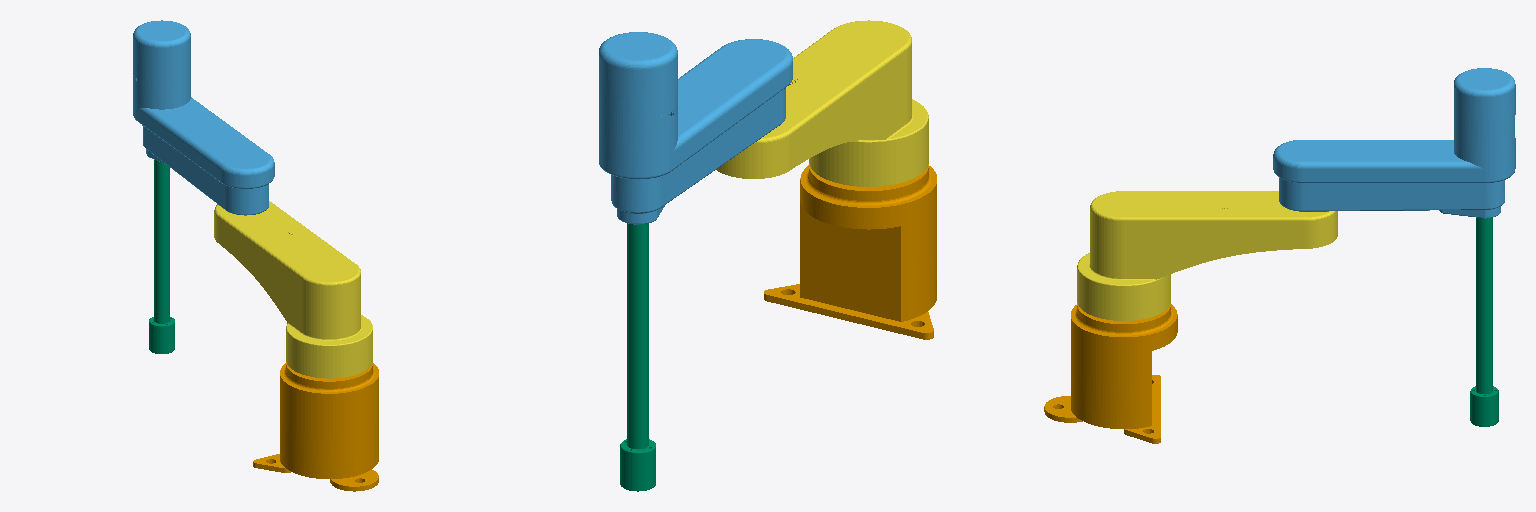
The robot description file, URDF, robot "robot_assembly":
<?xml version="1.0" ?>
<robot name="robot_assembly">

<link name="base_link">
  <inertial>
    <origin xyz="-1.888762183439215e-15 -0.010495627041338022 0.09733404643227067" rpy="0 0 0"/>
    <mass value="5.007906755743693"/>
    <inertia ixx="0.027282" iyy="0.030304" izz="0.02086" ixy="0.0" iyz="-0.001324" ixz="-0.0"/>
  </inertial>
  <visual>
    <origin xyz="0 0 0" rpy="0 0 0"/>
    <geometry>
      <mesh filename="robot_assembly_description\meshes\base_link.stl" scale="0.001 0.001 0.001"/>
    </geometry>
    <material name="silver"/>
  </visual>
  <collision>
    <origin xyz="0 0 0" rpy="0 0 0"/>
    <geometry>
      <mesh filename="robot_assembly_description\meshes\base_link.stl" scale="0.001 0.001 0.001"/>
    </geometry>
  </collision>
</link>

<link name="arm2_1">
  <inertial>
    <origin xyz="-9.14622896552462e-07 0.19697821278629074 0.08613854339324689" rpy="0 0 0"/>
    <mass value="4.952981163199924"/>
    <inertia ixx="0.093532" iyy="0.022331" izz="0.078607" ixy="-0.0" iyz="-0.018464" ixz="-0.0"/>
  </inertial>
  <visual>
    <origin xyz="-0.0 -0.32 -0.3985" rpy="0 0 0"/>
    <geometry>
      <mesh filename="robot_assembly_description\meshes\arm2_1.stl" scale="0.001 0.001 0.001"/>
    </geometry>
    <material name="silver"/>
  </visual>
  <collision>
    <origin xyz="-0.0 -0.32 -0.3985" rpy="0 0 0"/>
    <geometry>
      <mesh filename="robot_assembly_description\meshes\arm2_1.stl" scale="0.001 0.001 0.001"/>
    </geometry>
  </collision>
</link>

<link name="shaft_1">
  <inertial>
    <origin xyz="3.204271979681934e-16 2.55351295663786e-15 -0.2276256112953061" rpy="0 0 0"/>
    <mass value="0.29882619323390436"/>
    <inertia ixx="0.004714" iyy="0.004714" izz="5.9e-05" ixy="-0.0" iyz="0.0" ixz="0.0"/>
  </inertial>
  <visual>
    <origin xyz="-0.0 -0.64 -0.3815" rpy="0 0 0"/>
    <geometry>
      <mesh filename="robot_assembly_description\meshes\shaft_1.stl" scale="0.001 0.001 0.001"/>
    </geometry>
    <material name="silver"/>
  </visual>
  <collision>
    <origin xyz="-0.0 -0.64 -0.3815" rpy="0 0 0"/>
    <geometry>
      <mesh filename="robot_assembly_description\meshes\shaft_1.stl" scale="0.001 0.001 0.001"/>
    </geometry>
  </collision>
</link>

<link name="arm1_1">
  <inertial>
    <origin xyz="-6.930929185867492e-07 0.09435703326515155 0.11934473873936169" rpy="0 0 0"/>
    <mass value="5.902218165960276"/>
    <inertia ixx="0.099613" iyy="0.025742" izz="0.088936" ixy="0.0" iyz="-0.021876" ixz="0.0"/>
  </inertial>
  <visual>
    <origin xyz="-0.0 -0.0 -0.2015" rpy="0 0 0"/>
    <geometry>
      <mesh filename="robot_assembly_description\meshes\arm1_1.stl" scale="0.001 0.001 0.001"/>
    </geometry>
    <material name="silver"/>
  </visual>
  <collision>
    <origin xyz="-0.0 -0.0 -0.2015" rpy="0 0 0"/>
    <geometry>
      <mesh filename="robot_assembly_description\meshes\arm1_1.stl" scale="0.001 0.001 0.001"/>
    </geometry>
  </collision>
</link>

<joint name="Revolute 2" type="continuous">
  <origin xyz="0.0 0.32 0.197" rpy="0 0 0"/>
  <parent link="arm1_1"/>
  <child link="arm2_1"/>
  <axis xyz="0.0 0.0 1.0"/>
</joint>

<joint name="Slider 3" type="prismatic">
  <origin xyz="0.0 0.32 -0.017" rpy="0 0 0"/>
  <parent link="arm2_1"/>
  <child link="shaft_1"/>
  <axis xyz="-0.0 -0.0 -1.0"/>
  <limit upper="0.0" lower="-0.25" effort="100" velocity="100"/>
</joint>

<joint name="Revolute 4" type="continuous">
  <origin xyz="0.0 0.0 0.2015" rpy="0 0 0"/>
  <parent link="base_link"/>
  <child link="arm1_1"/>
  <axis xyz="0.0 0.0 1.0"/>
</joint>

</robot>

--- Render facts (derived) ---
3 views of the same robot in one strip: view 1: azimuth 30°, elevation 25°; view 2: azimuth 150°, elevation 25°; view 3: azimuth 270°, elevation 25° (orthographic).
Robot: robot_assembly — 4 links, 3 joints (2 continuous, 1 prismatic); root link base_link; default pose: all joints at 0.
Visible links, largest first — view 1: arm1_1, arm2_1, base_link, shaft_1; view 2: arm2_1, arm1_1, base_link, shaft_1; view 3: arm2_1, arm1_1, base_link, shaft_1.
Boxes of the visible links, x1=… form: arm1_1: x1=214, y1=201, x2=372, y2=378; arm2_1: x1=133, y1=20, x2=274, y2=215; base_link: x1=253, y1=362, x2=378, y2=491; shaft_1: x1=149, y1=160, x2=174, y2=353; arm2_1: x1=599, y1=32, x2=792, y2=224; arm1_1: x1=716, y1=20, x2=928, y2=186; base_link: x1=764, y1=164, x2=936, y2=339; shaft_1: x1=620, y1=223, x2=655, y2=491; arm2_1: x1=1273, y1=68, x2=1515, y2=218; arm1_1: x1=1077, y1=191, x2=1337, y2=320; base_link: x1=1044, y1=303, x2=1177, y2=443; shaft_1: x1=1470, y1=218, x2=1498, y2=426.
Bounding box of the posed robot: 0.2696 × 0.8363 × 0.67 m (x, y, z).
Meshes: 4 distinct files referenced, 4 mesh visuals loaded (4 binary STL).